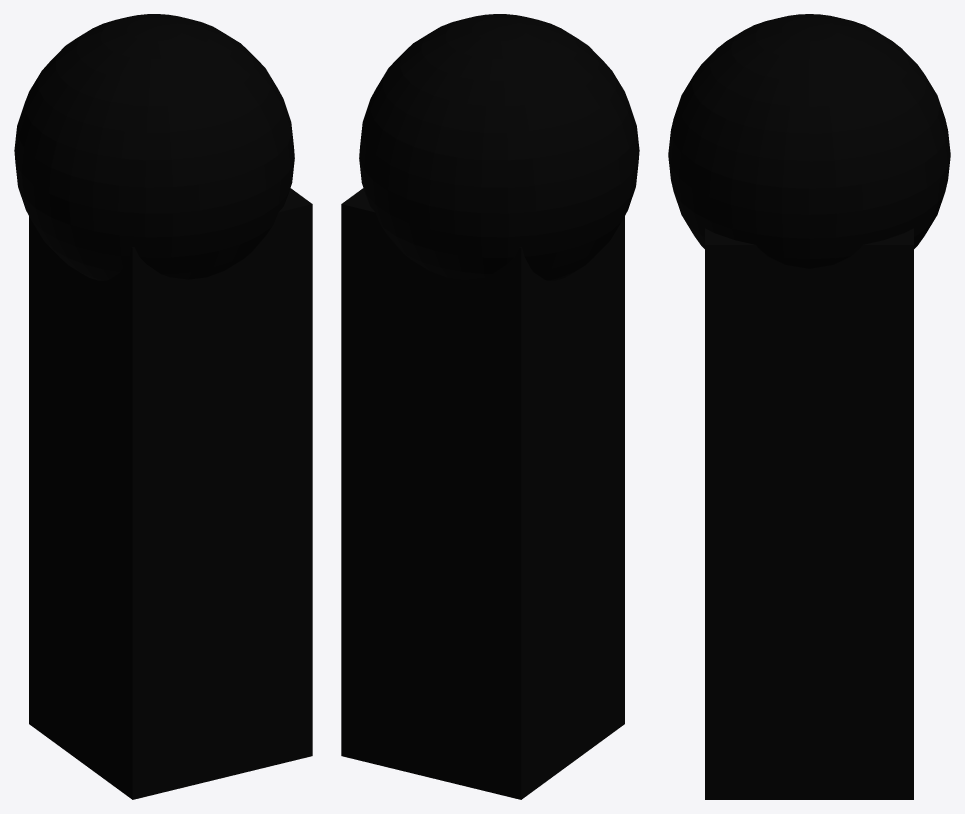
File: enemy_left_arm_up.obj
The picture shows the model from 3 angles, left to right: view 1: azimuth 30°, elevation 25°; view 2: azimuth 150°, elevation 25°; view 3: azimuth 270°, elevation 25°; orthographic projection.
Visible parts, largest first — view 1: 立方體.005, 球體.001_球體.002; view 2: 立方體.005, 球體.001_球體.002; view 3: 立方體.005, 球體.001_球體.002.
Boxes of the visible parts, x1,y1,x2,y2 form: 立方體.005: [29, 188, 312, 799]; 球體.001_球體.002: [14, 14, 294, 280]; 立方體.005: [341, 188, 624, 799]; 球體.001_球體.002: [359, 14, 639, 280]; 立方體.005: [705, 228, 913, 799]; 球體.001_球體.002: [668, 14, 950, 268].
Bounding box in the file's own units: 0.5553 × 1.56 × 0.5553.
2 materials, 2 textured.
